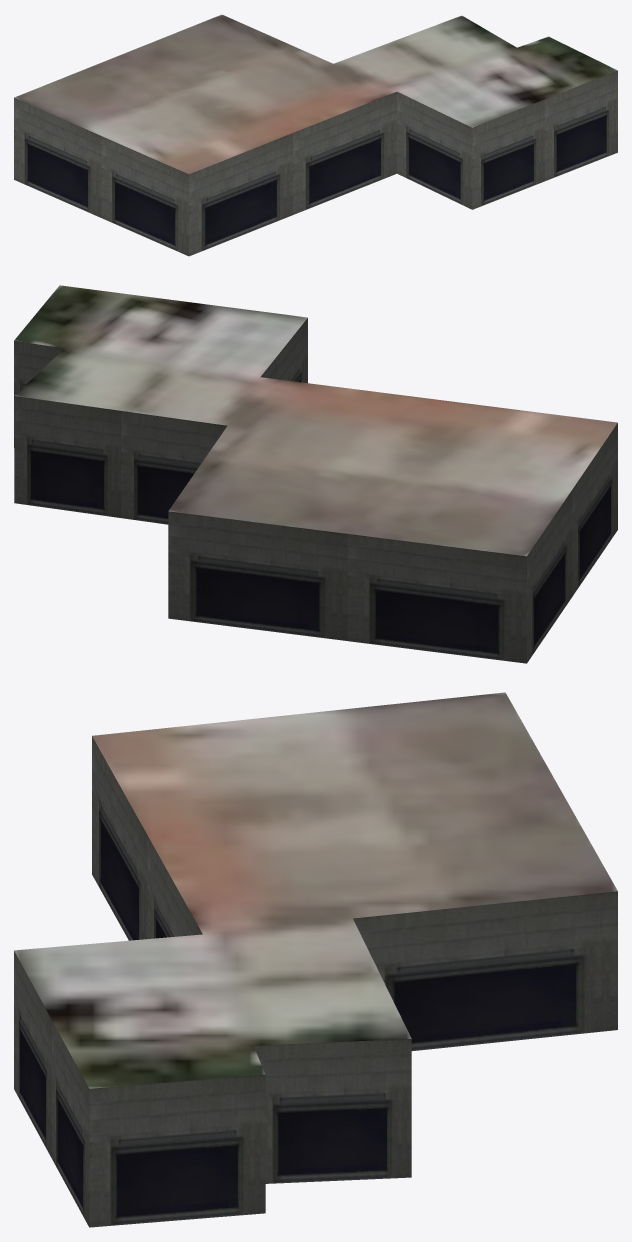
File: T_1SVPS4NWVH.dae
3 renders of one model, top to bottom at view 1: azimuth 30°, elevation 25°; view 2: azimuth 150°, elevation 25°; view 3: azimuth 270°, elevation 25°, orthographic. The views are drawn at different scales.
Parts seen in each view (by area): view 1: SketchUp (×5); view 2: SketchUp (×6); view 3: SketchUp (×6).
Boxes of the visible parts, bbox=[...] form: SketchUp (×5): bbox=[14, 14, 617, 256]; SketchUp (×6): bbox=[14, 285, 617, 663]; SketchUp (×6): bbox=[14, 692, 617, 1227].
Bounding box in the file's own units: 19.73 × 12.71 × 3.22.
Materials: 2 (2 with a texture image).
